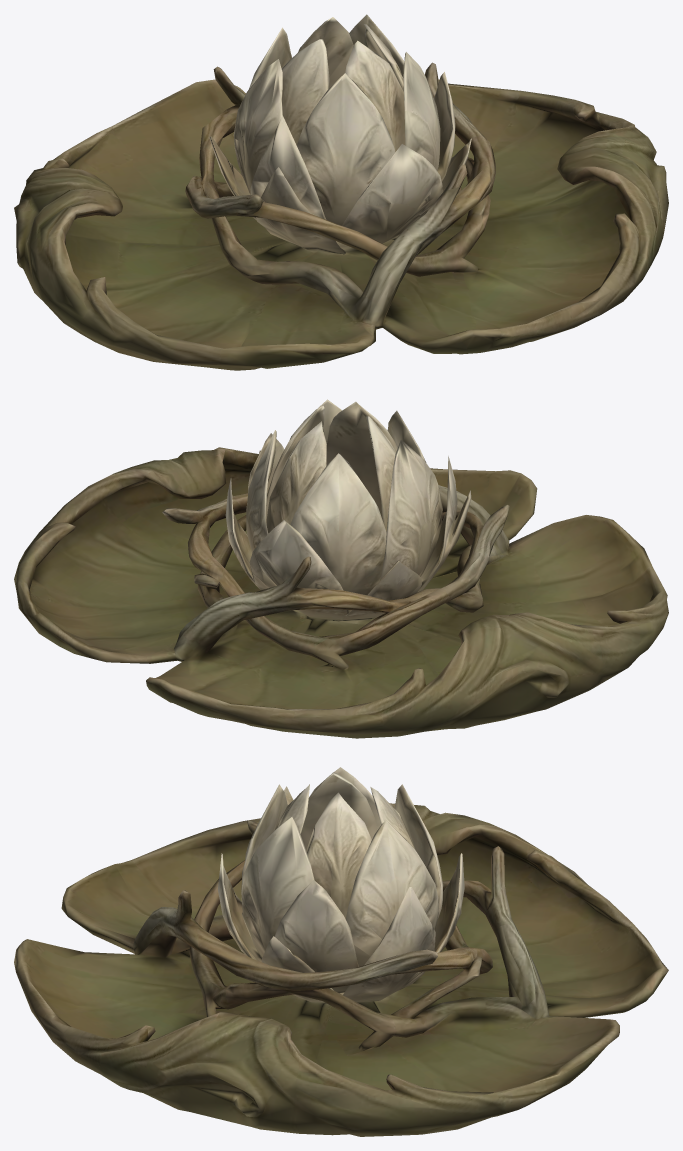
The model's file is lotus_lantern.glb.
3 renders of one model, top to bottom at view 1: azimuth 30°, elevation 25°; view 2: azimuth 150°, elevation 25°; view 3: azimuth 270°, elevation 25°, orthographic. The views are drawn at different scales.
Parts seen in each view (by area): view 1: tripo_node_f1b6ed36-b2f8-4b22-a87b-b15c87584f70; view 2: tripo_node_f1b6ed36-b2f8-4b22-a87b-b15c87584f70; view 3: tripo_node_f1b6ed36-b2f8-4b22-a87b-b15c87584f70.
Part boxes in pixels (x1=…): tripo_node_f1b6ed36-b2f8-4b22-a87b-b15c87584f70: x1=14, y1=14, x2=668, y2=370; tripo_node_f1b6ed36-b2f8-4b22-a87b-b15c87584f70: x1=14, y1=399, x2=668, y2=738; tripo_node_f1b6ed36-b2f8-4b22-a87b-b15c87584f70: x1=14, y1=767, x2=668, y2=1136.
Bounding box in the file's own units: 0.9798 × 0.3654 × 0.9369.
Materials: 1 (1 with a texture image).
